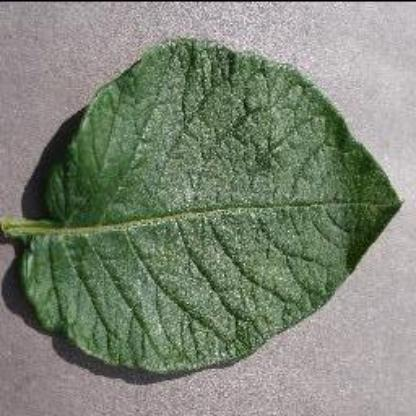Healthy-plant: (5, 40, 401, 376)
